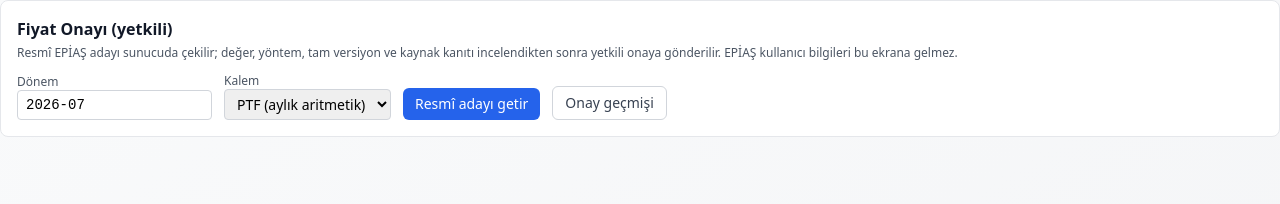
Test: FiyatOnayPaneli — kullanıcı akışı › aday hatası ekranda açık gösterilir (0)
This screenshot has width=1280, height=204.
Click the button "Resmî adayı getir" at (472,104), box [403,88,540,120]
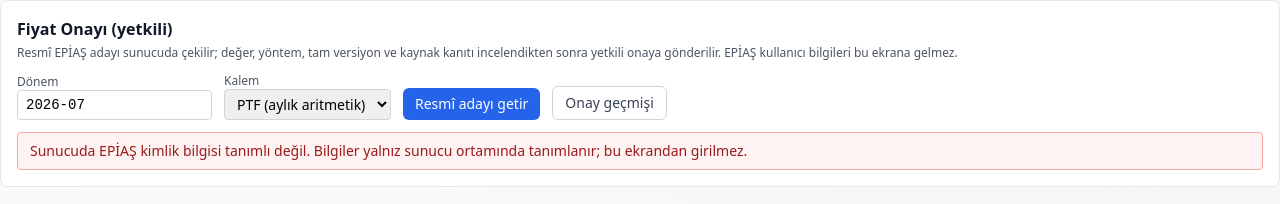
Check: the message with test id "onay-hatasi" shows "EPİAŞ kimlik bilgisi tanımlı değil", box [30,141,747,160]
